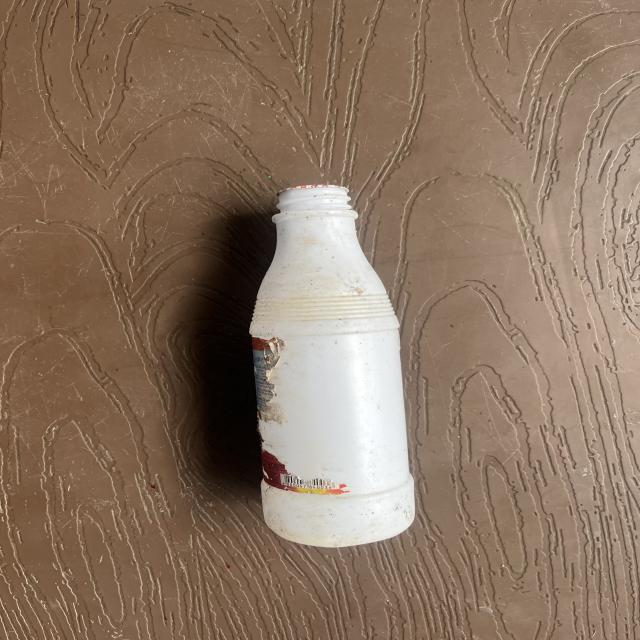REJECT: (253, 182, 504, 547)
